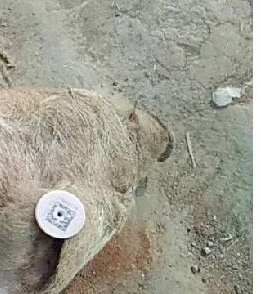text: (29, 182, 94, 246)
